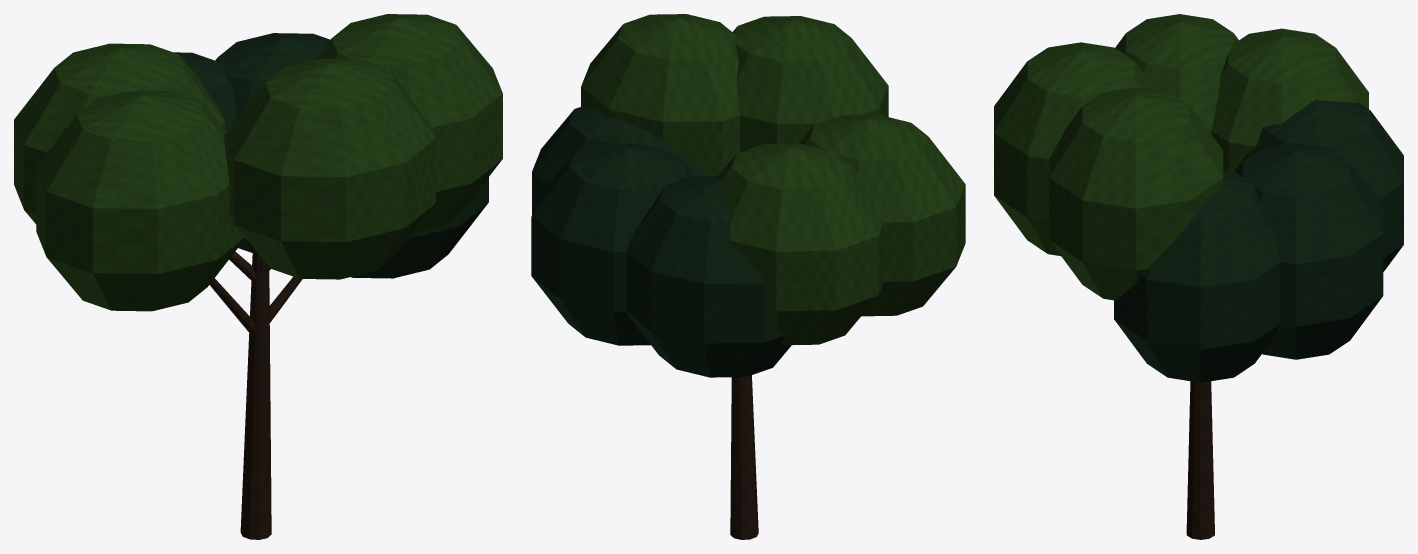
Rendered from PROP-DF10820B9FAD_lod1.glb.
The picture shows the model from 3 angles, left to right: view 1: azimuth 30°, elevation 25°; view 2: azimuth 150°, elevation 25°; view 3: azimuth 270°, elevation 25°; orthographic projection. The views are drawn at different scales.
Parts seen in each view (by area): view 1: leaf_crown.047, leaf_crown.046, trunk.045, branch.027; view 2: leaf_crown.047, leaf_crown.046, trunk.045; view 3: leaf_crown.047, leaf_crown.046, trunk.045.
Part boxes in pixels (bbox=[...]): leaf_crown.047: bbox=[14, 14, 502, 311]; leaf_crown.046: bbox=[174, 33, 488, 278]; trunk.045: bbox=[240, 247, 271, 539]; branch.027: bbox=[209, 251, 302, 335]; leaf_crown.047: bbox=[581, 14, 965, 345]; leaf_crown.046: bbox=[531, 106, 791, 377]; trunk.045: bbox=[730, 375, 758, 539]; leaf_crown.047: bbox=[994, 14, 1368, 300]; leaf_crown.046: bbox=[1114, 99, 1403, 382]; trunk.045: bbox=[1186, 381, 1214, 539].
Bounding box in the file's own units: 7.84 × 8.67 × 6.6.
3 materials, 3 textured.
